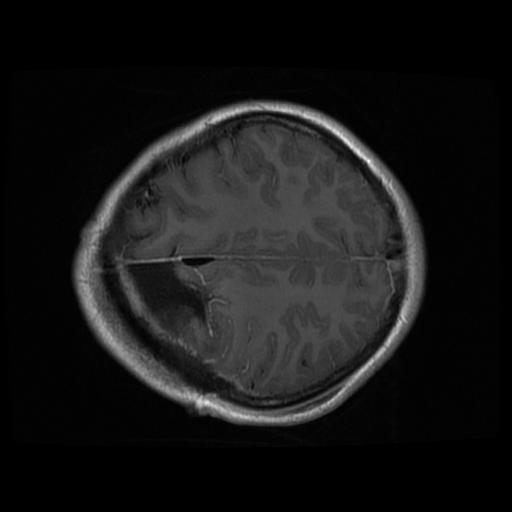glioma: (123, 260, 211, 346)
